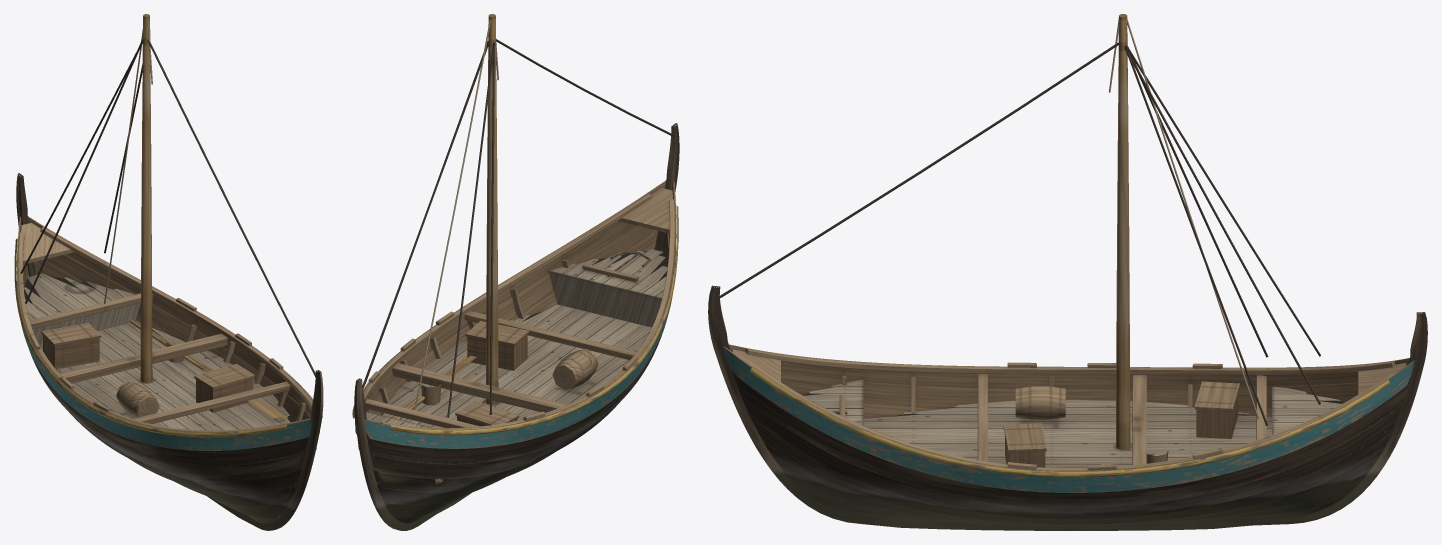
File: DriftBoat_LOD1.gltf
3 renders of one model, left to right at view 1: azimuth 30°, elevation 25°; view 2: azimuth 150°, elevation 25°; view 3: azimuth 270°, elevation 25°, orthographic. The views are drawn at different scales.
Parts seen in each view (by area): view 1: DriftBoat; view 2: DriftBoat; view 3: DriftBoat.
Part boxes in pixels (x1,y1,x2,y2): DriftBoat: (14, 14, 323, 530); DriftBoat: (352, 14, 679, 530); DriftBoat: (708, 14, 1427, 530).
Bounding box in the file's own units: 2.65 × 5.9 × 7.49.
1 material, 1 textured.
